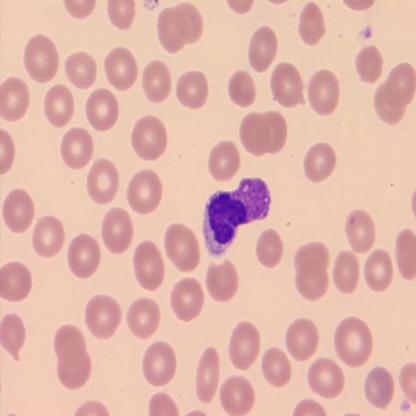Segmented neutrophil: (200, 174, 272, 258)
